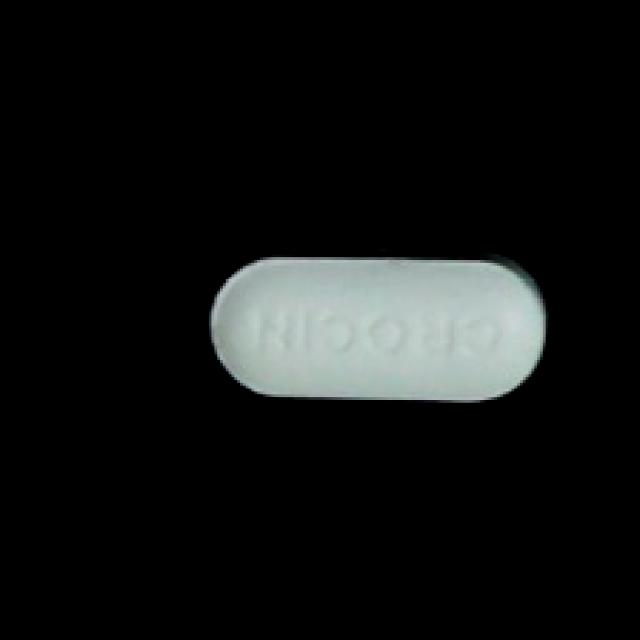no-defect: (197, 243, 549, 414)
